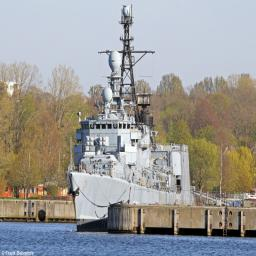Fragata: (65, 2, 194, 234)
